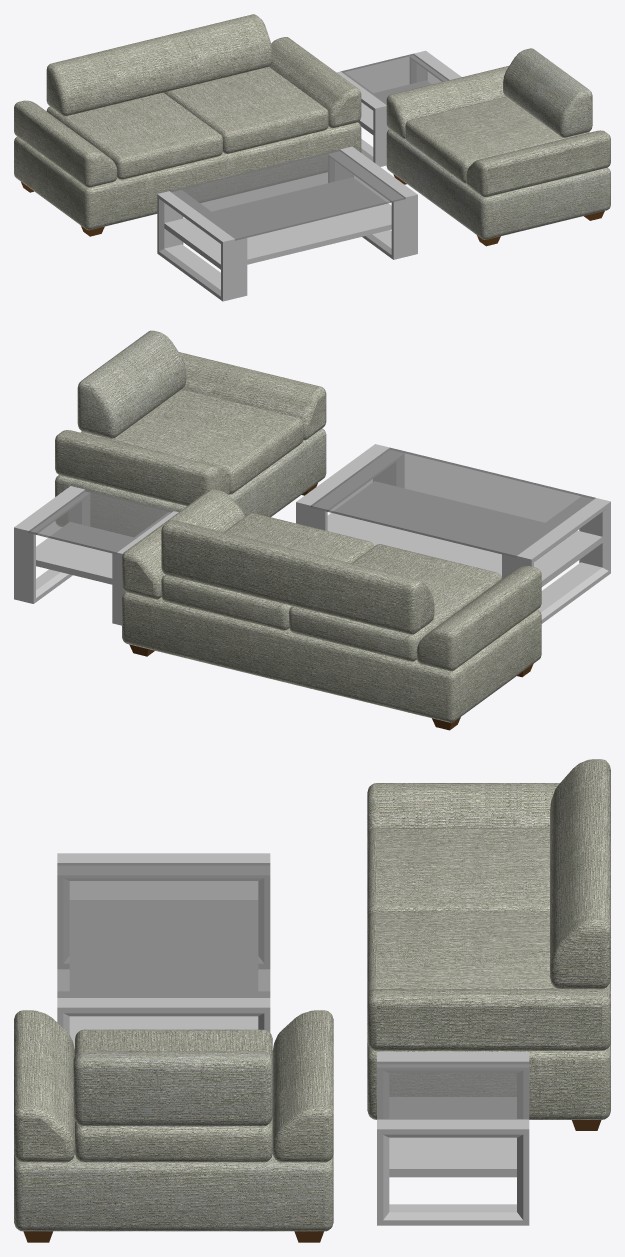
The model's file is SOFASET1.dae.
3 views of the same model, one above another, from view 1: azimuth 30°, elevation 25°; view 2: azimuth 150°, elevation 25°; view 3: azimuth 270°, elevation 25° (orthographic). The views are drawn at different scales.
Visible parts, largest first — view 1: group_3, group_5, group_13, group_12 (×2), group_11 (×4), group_23, group_10, group_4, group_17, group_16, group_22, group_1 (+5 smaller); view 2: group_3, group_13, group_5, group_12, group_17, group_11 (×3), group_10, group_19, group_23, group_22, group_4, group_1 (+5 smaller); view 3: group_13, group_23, group_12, group_10, group_22, group_2, group_4, group_11 (×4), group_5, group_24 (×4), group_17, group_3 (+5 smaller).
Boxes of the visible parts, <box> form: group_3: <box>14,122,361,230</box>; group_5: <box>46,14,272,116</box>; group_13: <box>170,149,405,240</box>; group_12 (×2): <box>164,177,391,269</box>; group_11 (×4): <box>157,146,417,301</box>; group_23: <box>386,129,610,239</box>; group_10: <box>46,92,222,179</box>; group_4: <box>163,67,328,153</box>; group_17: <box>405,96,589,183</box>; group_16: <box>466,130,610,197</box>; group_22: <box>503,48,592,137</box>; group_1: <box>14,100,117,187</box>; group_3: <box>122,592,541,722</box>; group_13: <box>310,447,595,557</box>; group_5: <box>161,520,434,634</box>; group_12: <box>327,481,601,580</box>; group_17: <box>81,389,303,494</box>; group_11 (×3): <box>296,444,610,623</box>; group_10: <box>289,544,502,661</box>; group_19: <box>55,430,229,506</box>; group_23: <box>55,428,326,536</box>; group_22: <box>77,330,186,438</box>; group_4: <box>161,513,374,630</box>; group_1: <box>416,566,541,671</box>; group_13: <box>57,863,270,997</box>; group_23: <box>14,1154,333,1231</box>; group_12: <box>69,900,258,1048</box>; group_10: <box>367,828,549,920</box>; group_22: <box>73,1051,272,1126</box>; group_2: <box>367,989,610,1050</box>; group_4: <box>367,911,610,995</box>; group_11 (×4): <box>57,853,270,1033</box>; group_5: <box>550,759,610,988</box>; group_24 (×4): <box>377,1052,529,1225</box>; group_17: <box>75,1029,272,1162</box>; group_3: <box>367,1042,610,1119</box>.
Size of the model in its own units: 101 by 77.2 by 26.77.
